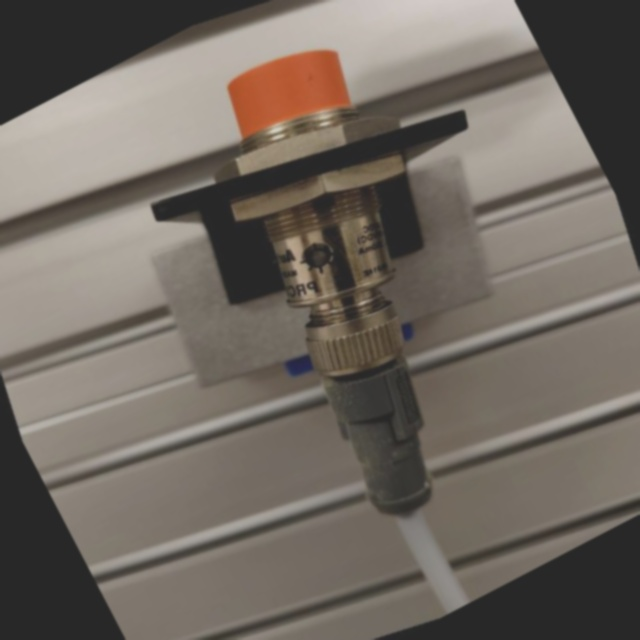inductive sensor: (13, 0, 640, 633)
